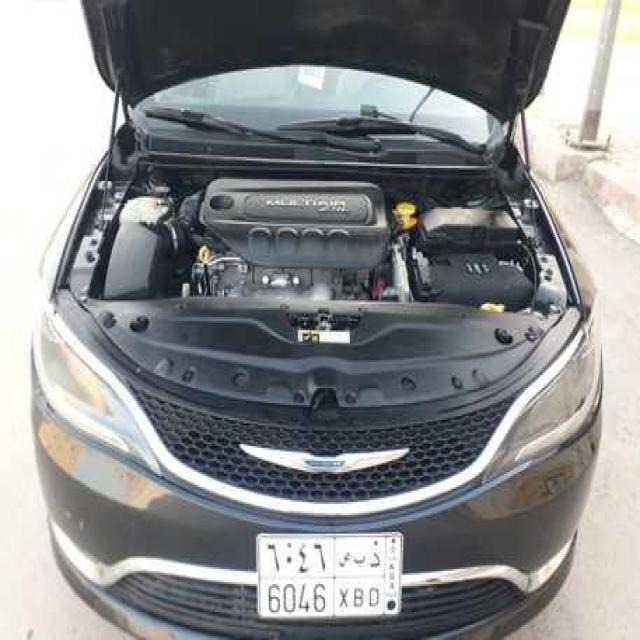license_plate: (245, 515, 406, 627)
